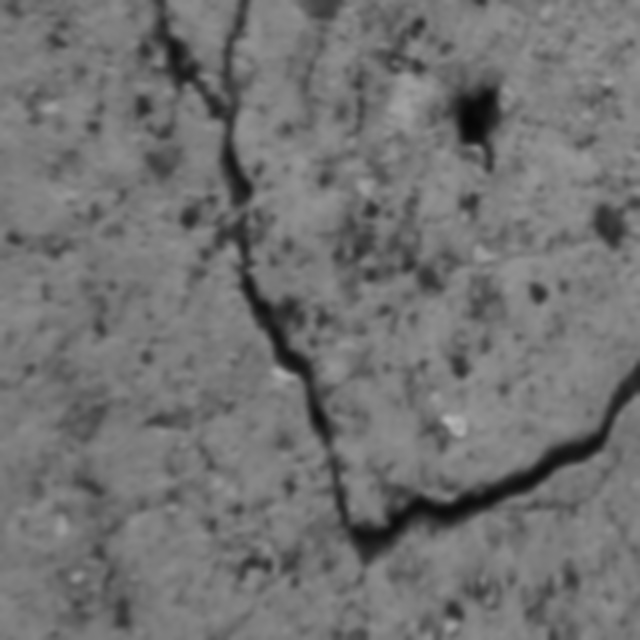SurfaceCrack: (47, 0, 638, 592)
